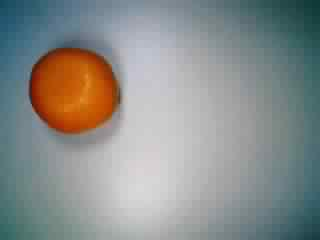orange: (28, 44, 119, 137)
